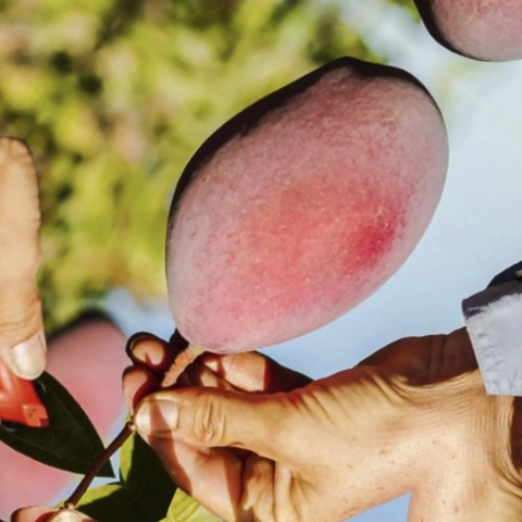mango: (70, 0, 516, 439)
